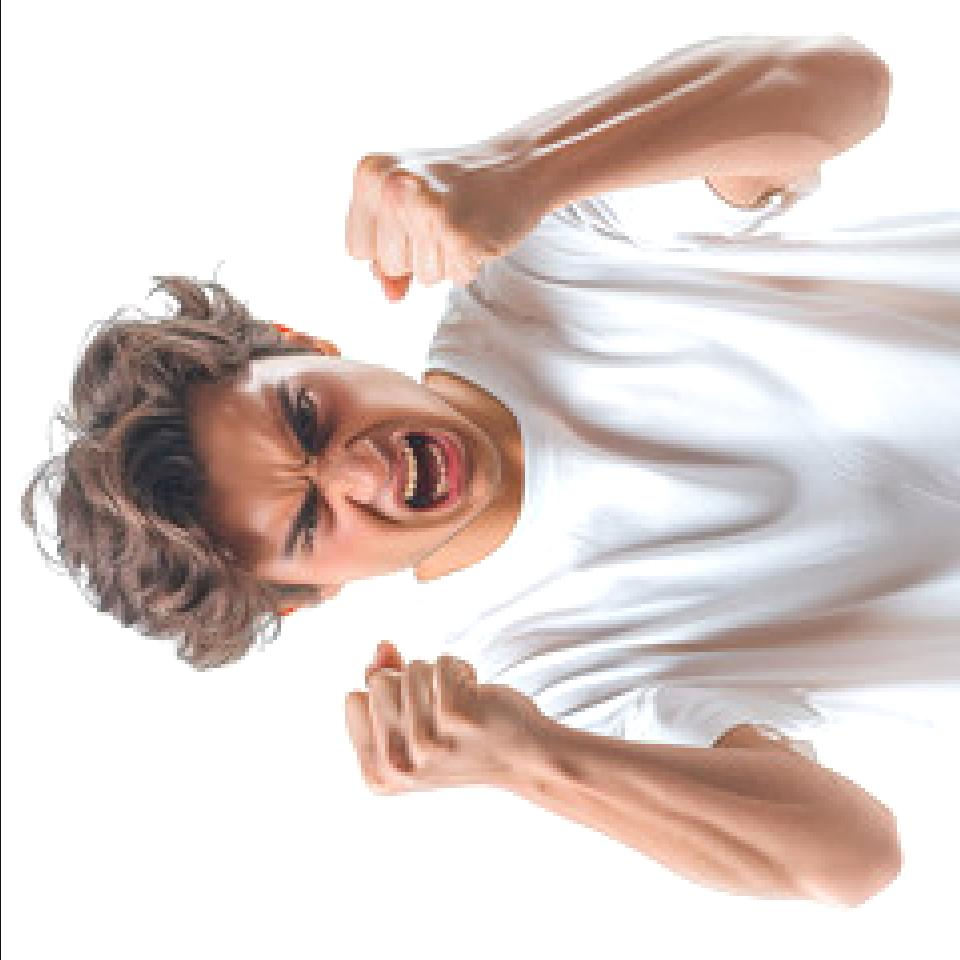Anger: (236, 352, 502, 588)
